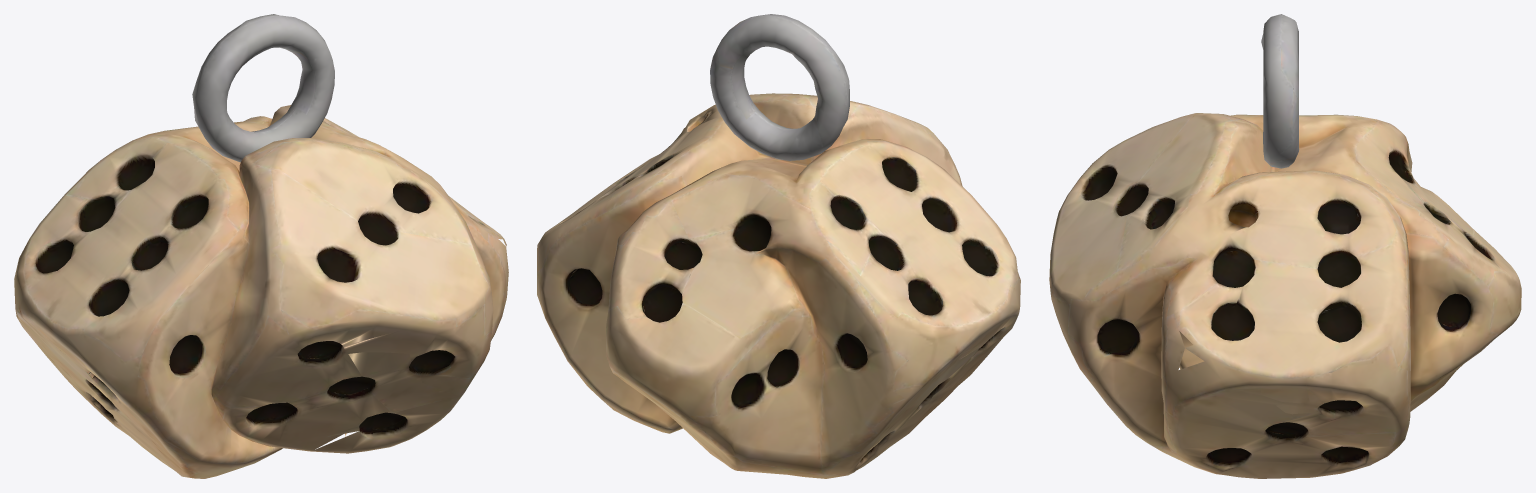
File: sus_zar.glb
3 renders of one model, left to right at view 1: azimuth 30°, elevation 25°; view 2: azimuth 150°, elevation 25°; view 3: azimuth 270°, elevation 25°, orthographic. The views are drawn at different scales.
Visible parts, largest first — view 1: sus; view 2: sus; view 3: sus.
Part boxes in pixels (x1,y1,x2,y2): sus: (14, 14, 508, 478); sus: (537, 14, 1020, 478); sus: (1049, 14, 1521, 478).
Size of the model in its own units: 0.03 by 0.0278 by 0.0288.
Materials: 1 (1 with a texture image).
